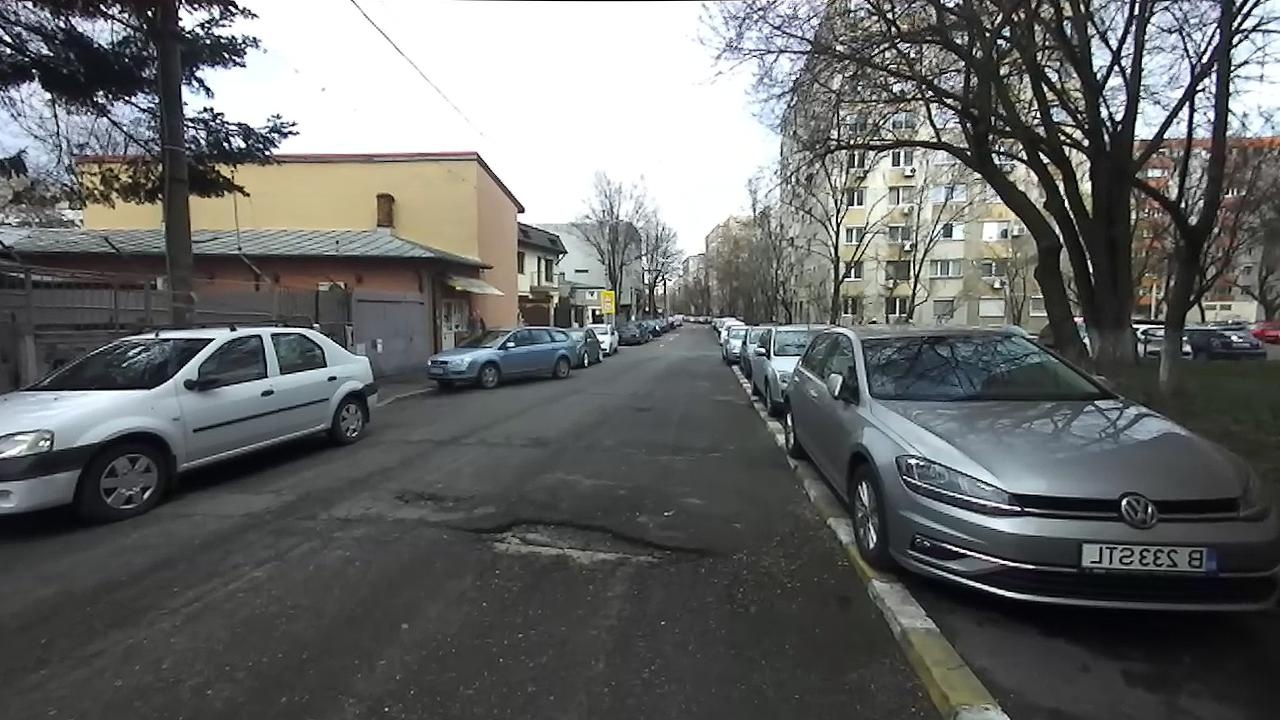pothole: (434, 514, 723, 576), (387, 482, 467, 505)
